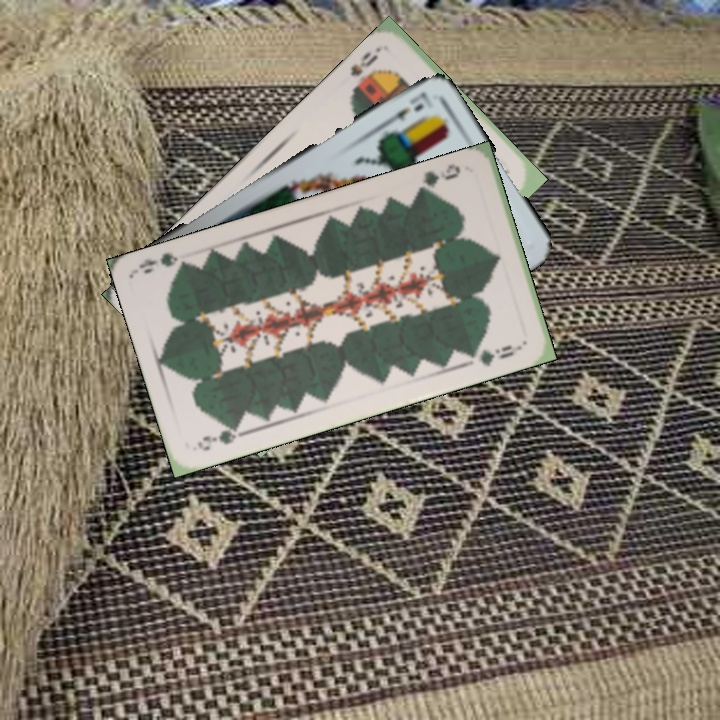EK: (378, 88, 433, 130)
G9: (193, 421, 249, 454), (414, 159, 464, 195)
SO: (346, 42, 384, 97)
